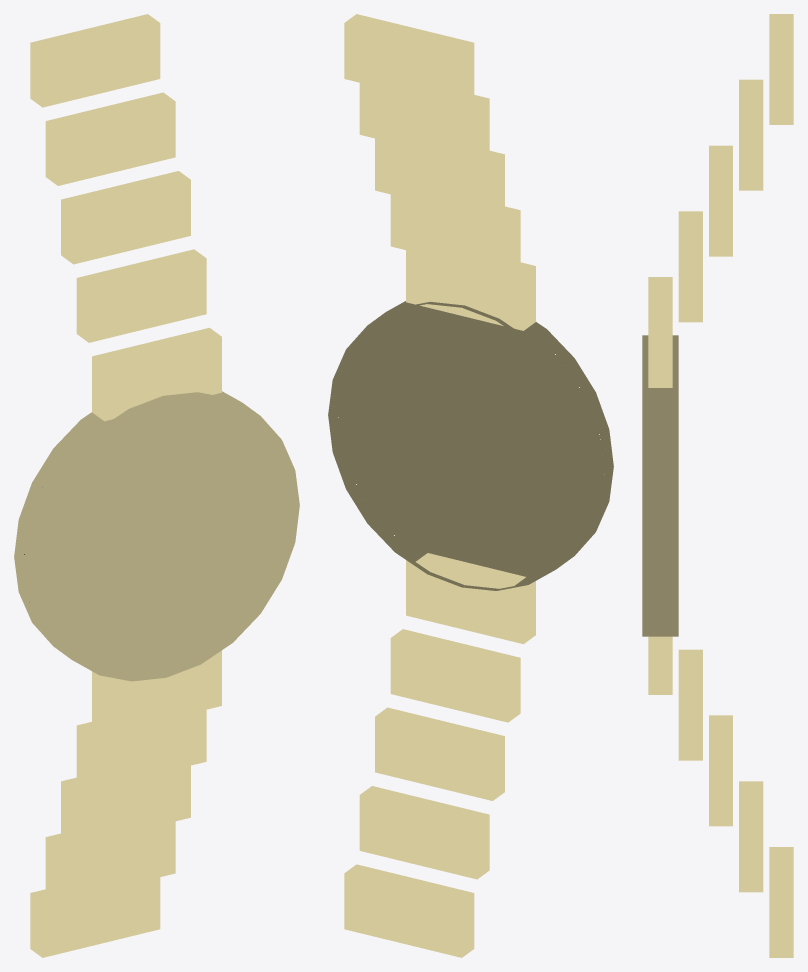
File: watch.glb
3 renders of one model, left to right at view 1: azimuth 30°, elevation 25°; view 2: azimuth 150°, elevation 25°; view 3: azimuth 270°, elevation 25°, orthographic. The views are drawn at different scales.
Parts seen in each view (by area): view 1: Watch_Material; view 2: Watch_Material; view 3: Watch_Material.
Boxes of the visible parts, x1=… form: Watch_Material: x1=14, y1=14, x2=299, y2=957; Watch_Material: x1=328, y1=14, x2=613, y2=957; Watch_Material: x1=642, y1=14, x2=793, y2=957.
Size of the model in its own units: 0.5 by 1.62 by 0.25.
